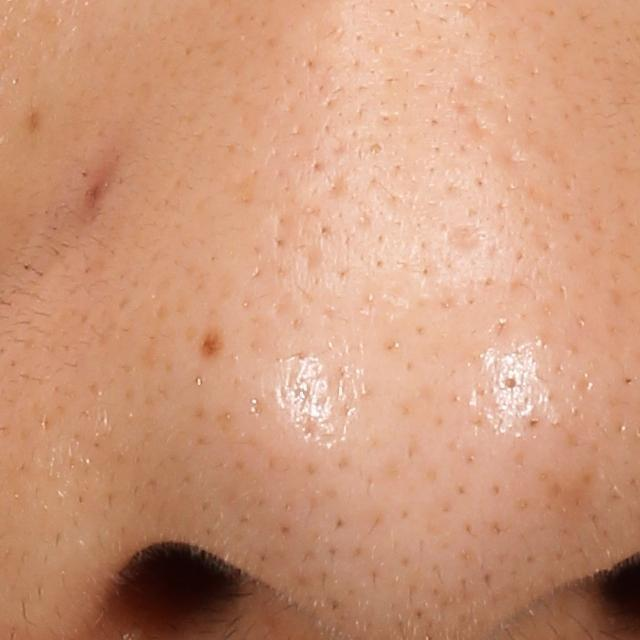atrophic_scar: (444, 222, 488, 252), (272, 212, 297, 256), (300, 241, 328, 278)
nevus: (197, 332, 221, 360), (20, 107, 41, 136)
